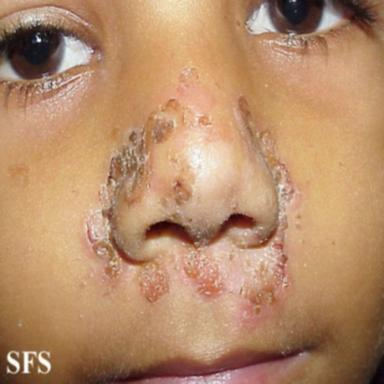Impetigo: (84, 63, 215, 280), (233, 94, 308, 330), (158, 150, 209, 251), (183, 251, 223, 295), (138, 260, 170, 304)
